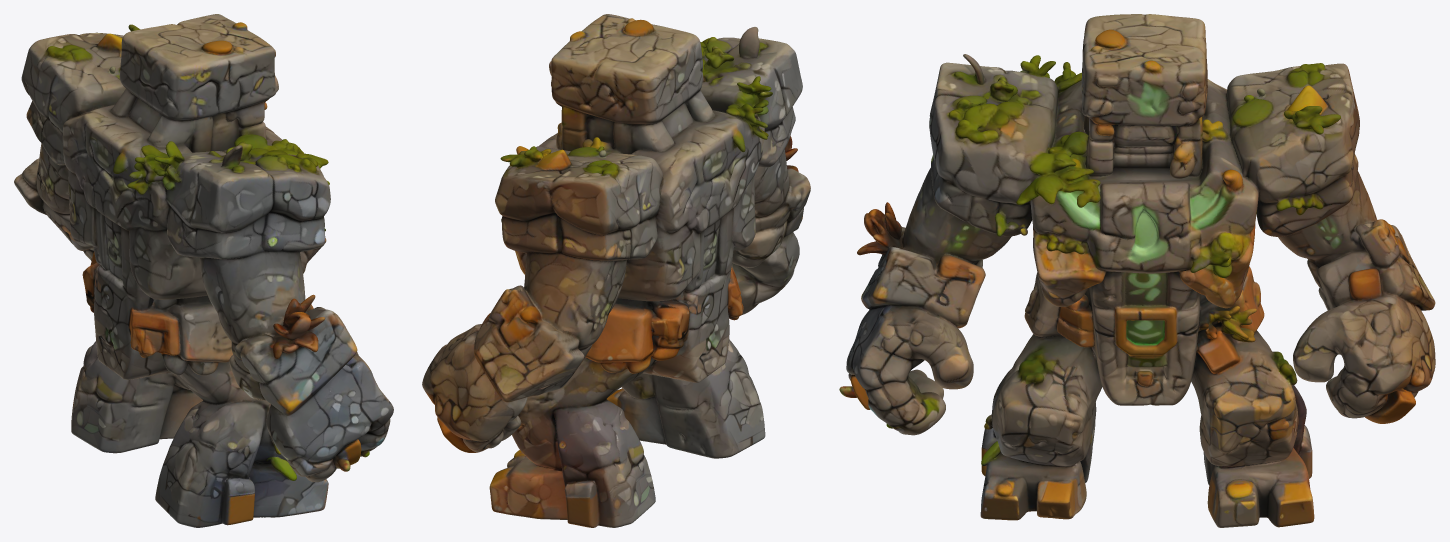
File: stone-golem-static.glb
3 views of the same model, side by side, from view 1: azimuth 30°, elevation 25°; view 2: azimuth 150°, elevation 25°; view 3: azimuth 270°, elevation 25° (orthographic). The views are drawn at different scales.
Parts seen in each view (by area): view 1: tripo_node_52704e92-dcb0-4645-a143-8c2fd7fcd297; view 2: tripo_node_52704e92-dcb0-4645-a143-8c2fd7fcd297; view 3: tripo_node_52704e92-dcb0-4645-a143-8c2fd7fcd297.
Boxes of the visible parts, x1,y1,x2,y2 form: tripo_node_52704e92-dcb0-4645-a143-8c2fd7fcd297: (14, 14, 393, 527); tripo_node_52704e92-dcb0-4645-a143-8c2fd7fcd297: (422, 14, 810, 527); tripo_node_52704e92-dcb0-4645-a143-8c2fd7fcd297: (839, 14, 1435, 527).
Size of the model in its own units: 0.4116 by 0.8556 by 1.
Materials: 1 (1 with a texture image).
